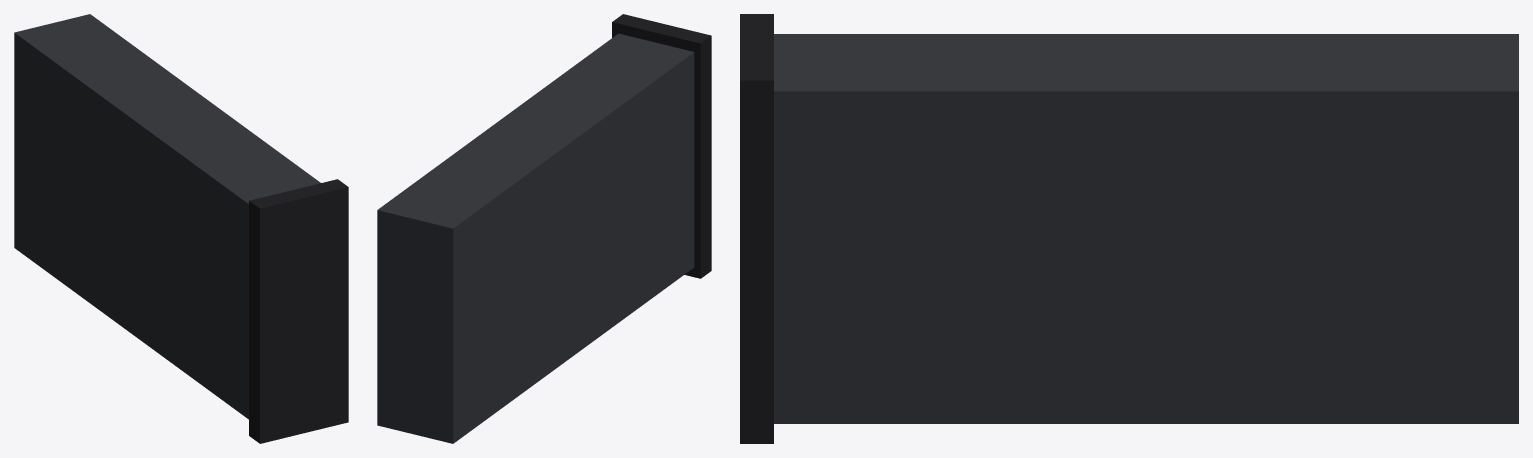
The model's file is STANAG_Mag40.fbx.
3 views of the same model, side by side, from view 1: azimuth 30°, elevation 25°; view 2: azimuth 150°, elevation 25°; view 3: azimuth 270°, elevation 25° (orthographic). The views are drawn at different scales.
Parts seen in each view (by area): view 1: prims; view 2: prims; view 3: prims.
Part boxes in pixels (x1,y1,x2,y2): prims: [14, 14, 348, 443]; prims: [377, 14, 711, 443]; prims: [740, 14, 1518, 443].
Size of the model in its own units: 0.0168 by 0.0426 by 0.0828.
